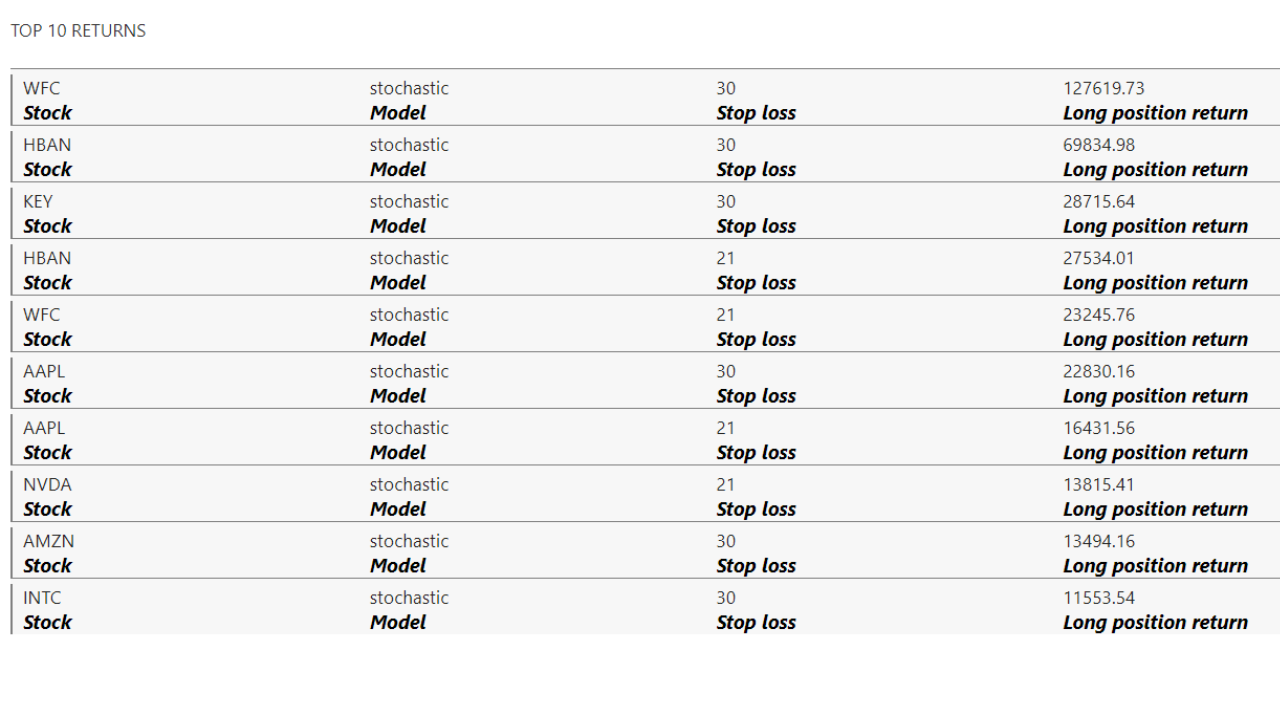

Layout of this report page (visuals, bound fields, positions):
{"tool":"powerbi","page":{"name":"Top 10 returns","canvas":[1280,720],"ordinal":3},"visuals":[{"type":"multiRowCard","title":"TOP 10 RETURNS","fields":{"Values":["Sheet1.Stock","Sheet1.Model","Sheet1.Stop loss","Sheet1.Long position return"]},"box":[0,0,1280,720.5],"z":0}]}

Visuals, with their boxes in screenshot pixels (x1, y1, x2, y2), scaled from the page's 1280x720 canvas onto the 1280x720 screenshot:
"TOP 10 RETURNS" multiRowCard: Rect(0, 0, 1279, 719)
